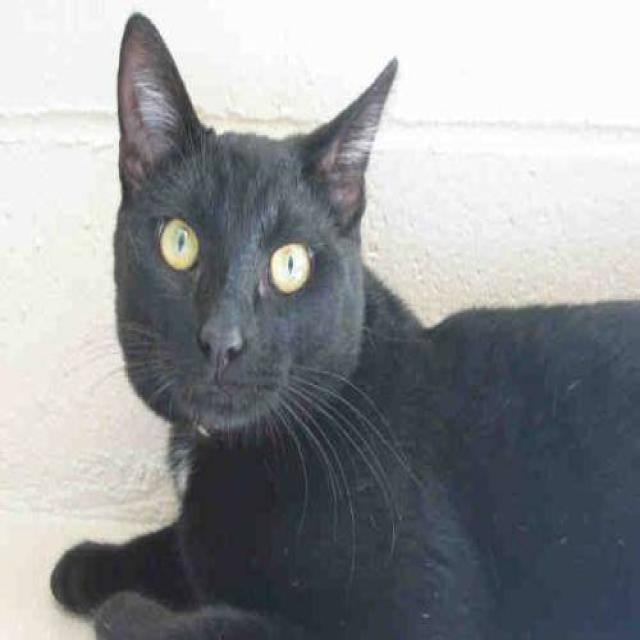cat: (49, 11, 638, 638)
